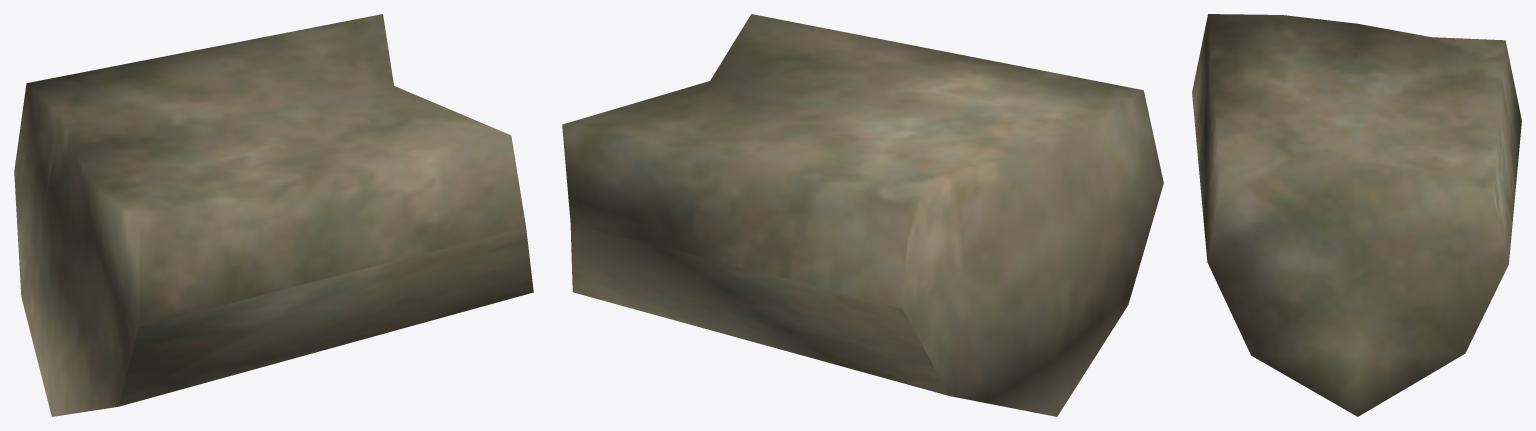
Rendered from ANIMATEDINSTANCES_CAVE_BRIDGE_201__AI.fbx.
3 views of the same model, side by side, from view 1: azimuth 30°, elevation 25°; view 2: azimuth 150°, elevation 25°; view 3: azimuth 270°, elevation 25° (orthographic). The views are drawn at different scales.
Visible parts, largest first — view 1: ANIMATEDINSTANCES_CAVE_BRIDGE_201__AI; view 2: ANIMATEDINSTANCES_CAVE_BRIDGE_201__AI; view 3: ANIMATEDINSTANCES_CAVE_BRIDGE_201__AI.
Boxes of the visible parts, bbox=[...] form: ANIMATEDINSTANCES_CAVE_BRIDGE_201__AI: bbox=[14, 14, 533, 416]; ANIMATEDINSTANCES_CAVE_BRIDGE_201__AI: bbox=[562, 14, 1163, 416]; ANIMATEDINSTANCES_CAVE_BRIDGE_201__AI: bbox=[1192, 14, 1521, 416].
Size of the model in its own units: 11974 by 6359 by 8523.
Materials: 1 (1 with a texture image).
